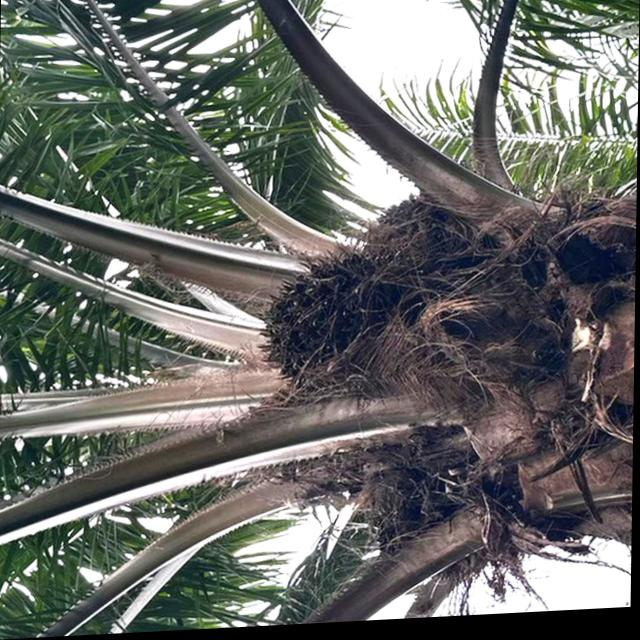almost: (250, 245, 420, 404)
